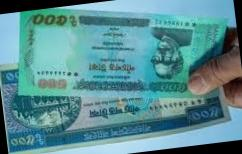500 tk: (0, 39, 233, 148), (15, 0, 229, 106)
